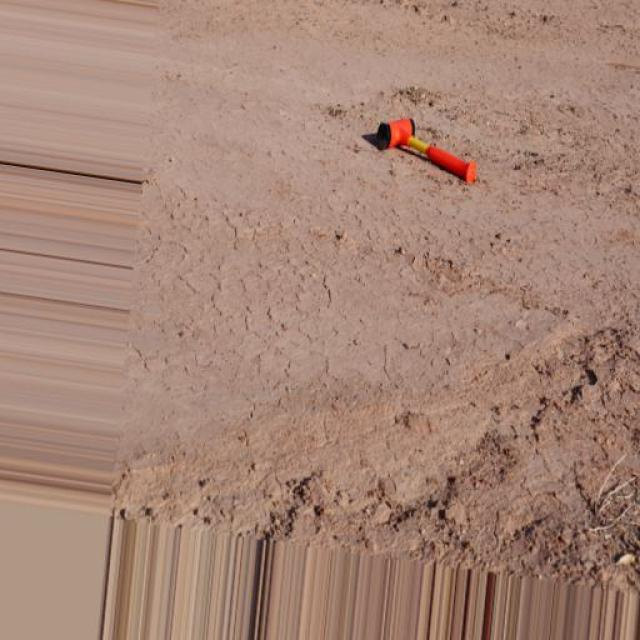mallet: (375, 115, 477, 184)
